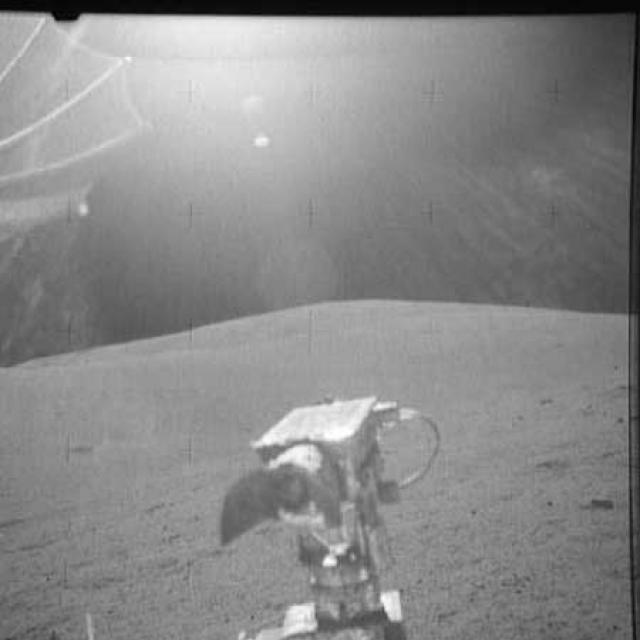artifact: (210, 393, 454, 640), (0, 8, 150, 370)
